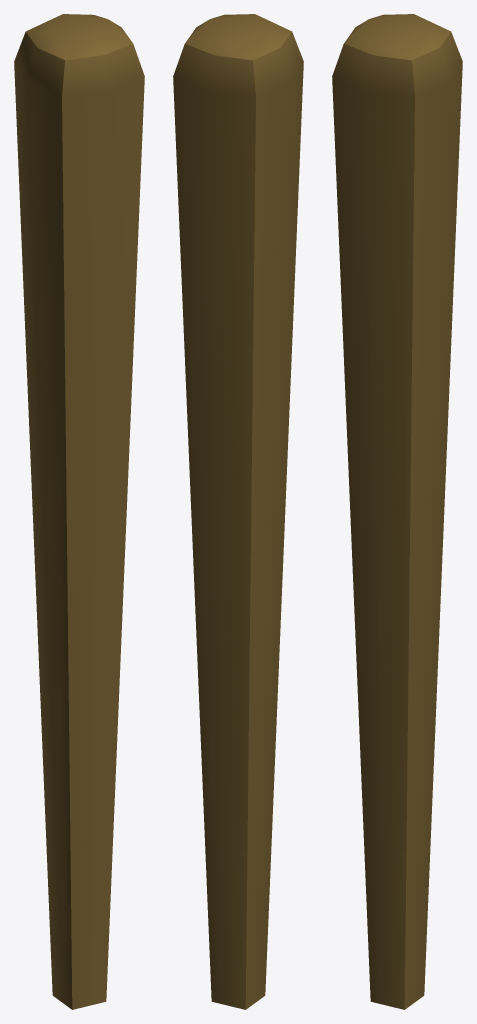
File: Aseet_07_Chopsticks.fbx
3 renders of one model, left to right at view 1: azimuth 30°, elevation 25°; view 2: azimuth 150°, elevation 25°; view 3: azimuth 330°, elevation 25°, orthographic.
Visible parts, largest first — view 1: SK_07_Chopsticks; view 2: SK_07_Chopsticks; view 3: SK_07_Chopsticks.
Boxes of the visible parts, left/top/right/bottom form: SK_07_Chopsticks: left=14, top=14, right=144, bottom=1009; SK_07_Chopsticks: left=173, top=14, right=303, bottom=1009; SK_07_Chopsticks: left=332, top=14, right=462, bottom=1009.
Size of the model in its own units: 0.1805 by 1.58 by 0.1805.
